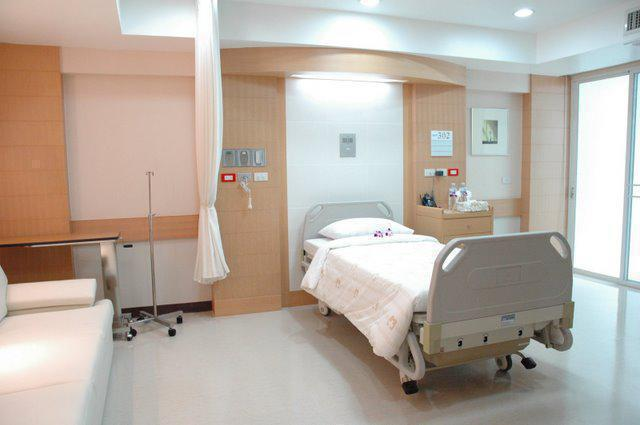Cama: (297, 195, 583, 396)
Otro Obstaculo: (116, 164, 188, 341)
Puerta: (569, 82, 635, 279)
